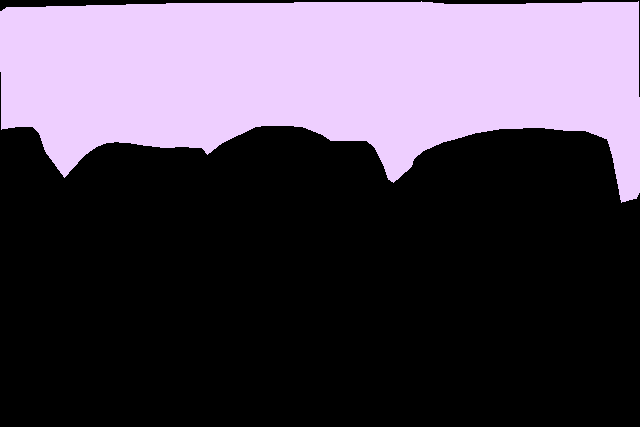Train: (0, 1, 639, 202)
